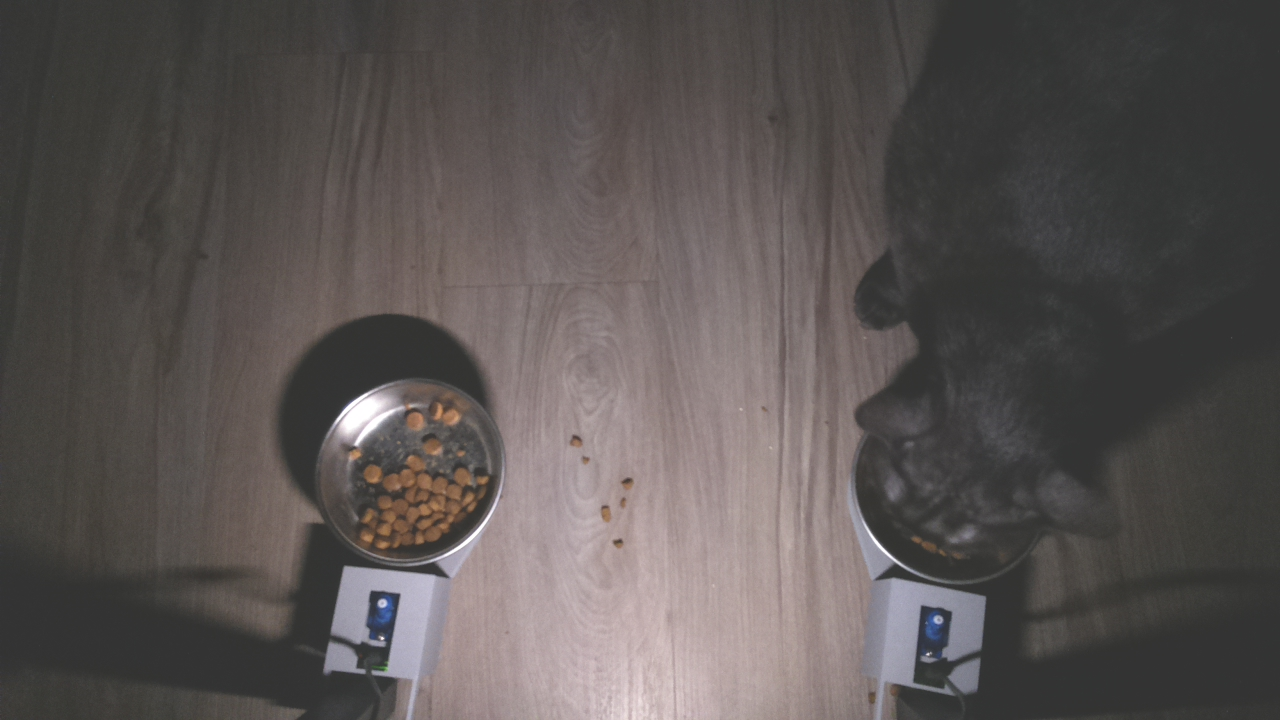open_bowl: (309, 370, 508, 571)
saki_eating: (847, 362, 1130, 592)
